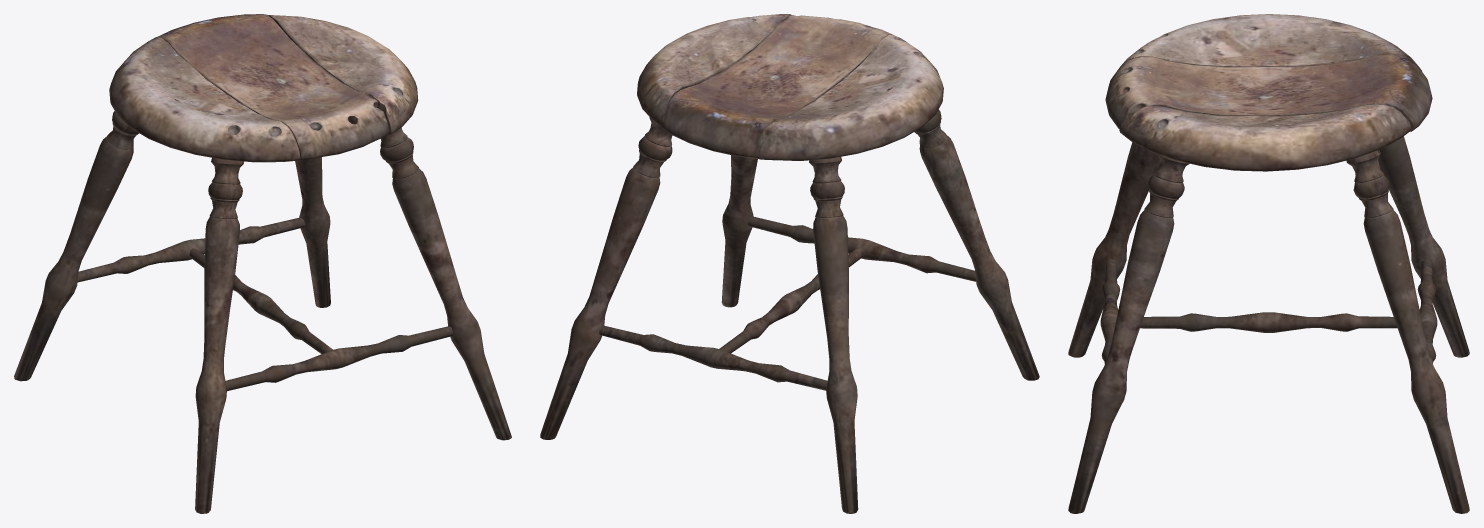
The model's file is wooden_stool_01.glb.
3 renders of one model, left to right at view 1: azimuth 30°, elevation 25°; view 2: azimuth 150°, elevation 25°; view 3: azimuth 270°, elevation 25°, orthographic. The views are drawn at different scales.
Visible parts, largest first — view 1: wooden_stool_01; view 2: wooden_stool_01; view 3: wooden_stool_01.
Part boxes in pixels (x1=…): wooden_stool_01: x1=14, y1=14, x2=511, y2=513; wooden_stool_01: x1=540, y1=14, x2=1039, y2=513; wooden_stool_01: x1=1068, y1=14, x2=1469, y2=513.
Size of the model in its own units: 0.4246 by 0.4373 by 0.4417.
1 material, 1 textured.
